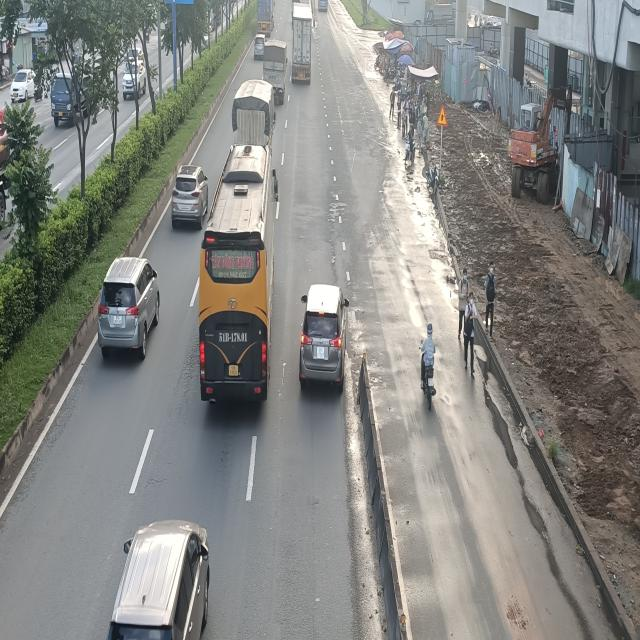car: (98, 256, 162, 359), (300, 287, 350, 394), (172, 167, 212, 231)
coach: (201, 150, 279, 410)
container: (291, 0, 314, 82), (255, 1, 275, 42)
truck: (228, 80, 275, 158), (262, 40, 288, 104)
